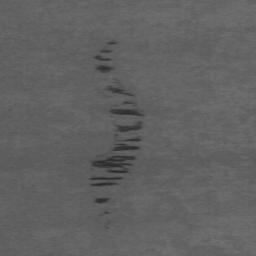Secondary rust skin: (87, 135, 143, 187), (108, 108, 146, 133), (93, 41, 118, 74), (104, 86, 136, 97), (93, 197, 112, 204)
